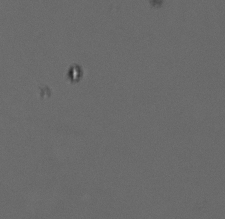Living Cell: (67, 63, 83, 82)
